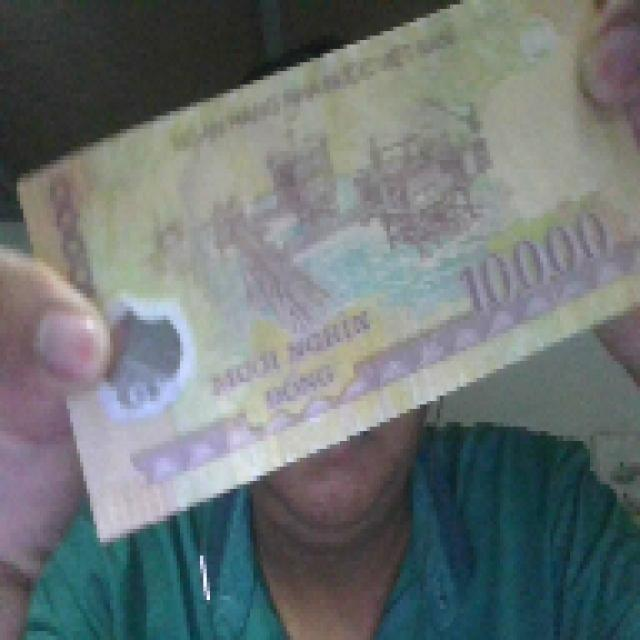10 000 VND: (13, 0, 637, 547)
